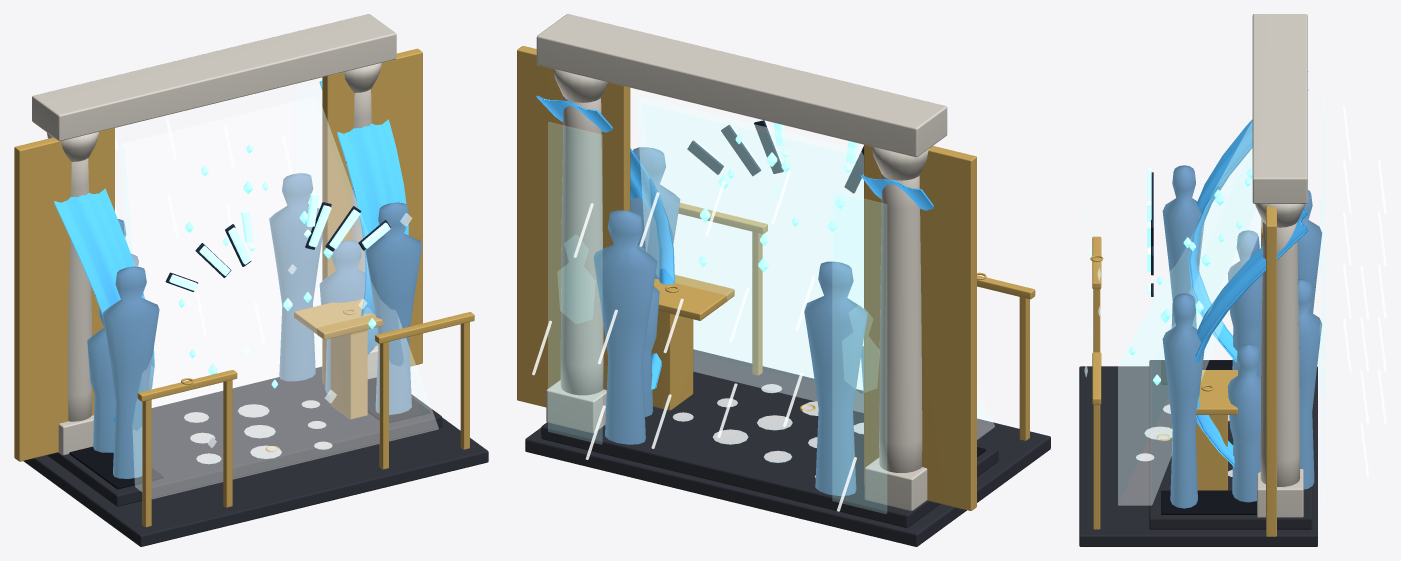
The model's file is webtoon-wind-drape-tempest-cape-100pct-v25.glb.
3 renders of one model, left to right at view 1: azimuth 30°, elevation 25°; view 2: azimuth 150°, elevation 25°; view 3: azimuth 270°, elevation 25°, orthographic. The views are drawn at different scales.
Visible parts, largest first — view 1: Volumetric_V25Beat3_Silk_GodRaySlit, Articulated_V25Beat3_Silk_DoorsAndIkRig, V25Beat3_Silk_DatumDeck, V25Beat3_Silk_PortalColonnade, DatumCrowd_V25Beat3_Silk_Silhouettes, WindDrape_V25Beat3_Silk_CatenaryPair, ZDepthSFX_V25Beat3_Silk_GlyphCore, ShadowDrift_V25Beat3_Silk_UmbraMask, Weather_V25Beat3_Silk_IndoorWetRipples, Weather_V25Beat3_Silk_ExteriorOccluded, ZDepthSFX_V25Beat3_Silk_ShadowPlate, Atmospheric_V25Beat3_Silk_MidMotes; view 2: Articulated_V25Beat3_Silk_DoorsAndIkRig, V25Beat3_Silk_PortalColonnade, Volumetric_V25Beat3_Silk_GodRaySlit, V25Beat3_Silk_DatumDeck, HalfMirror_V25Beat3_Silk_FresnelReflection, DatumCrowd_V25Beat3_Silk_Silhouettes, WindDrape_V25Beat3_Silk_CatenaryPair, Weather_V25Beat3_Silk_ExteriorOccluded, ZDepthSFX_V25Beat3_Silk_ShadowPlate, Weather_V25Beat3_Silk_IndoorWetRipples, Atmospheric_V25Beat3_Silk_MidMotes, ZDepthSFX_V25Beat3_Silk_GlyphCore; view 3: DatumCrowd_V25Beat3_Silk_Silhouettes, V25Beat3_Silk_DatumDeck, V25Beat3_Silk_PortalColonnade, Volumetric_V25Beat3_Silk_GodRaySlit, Articulated_V25Beat3_Silk_DoorsAndIkRig, WindDrape_V25Beat3_Silk_CatenaryPair, Weather_V25Beat3_Silk_ExteriorOccluded, ShadowDrift_V25Beat3_Silk_UmbraMask, HalfMirror_V25Beat3_Silk_FresnelReflection, Atmospheric_V25Beat3_Silk_MidMotes, Weather_V25Beat3_Silk_IndoorWetRipples, ZDepthSFX_V25Beat3_Silk_GlyphCore.
Part boxes in pixels (left/top/right/bottom): Volumetric_V25Beat3_Silk_GodRaySlit: left=121, top=97, right=438, bottom=498; Articulated_V25Beat3_Silk_DoorsAndIkRig: left=14, top=48, right=474, bottom=527; V25Beat3_Silk_DatumDeck: left=23, top=366, right=488, bottom=546; V25Beat3_Silk_PortalColonnade: left=32, top=14, right=396, bottom=455; DatumCrowd_V25Beat3_Silk_Silhouettes: left=87, top=173, right=421, bottom=478; WindDrape_V25Beat3_Silk_CatenaryPair: left=54, top=81, right=408, bottom=422; ZDepthSFX_V25Beat3_Silk_GlyphCore: left=169, top=193, right=390, bottom=290; ShadowDrift_V25Beat3_Silk_UmbraMask: left=69, top=377, right=430, bottom=489; Weather_V25Beat3_Silk_IndoorWetRipples: left=184, top=400, right=332, bottom=464; Weather_V25Beat3_Silk_ExteriorOccluded: left=115, top=115, right=292, bottom=345; ZDepthSFX_V25Beat3_Silk_ShadowPlate: left=165, top=202, right=390, bottom=291; Atmospheric_V25Beat3_Silk_MidMotes: left=178, top=144, right=376, bottom=388; Articulated_V25Beat3_Silk_DoorsAndIkRig: left=517, top=46, right=1035, bottom=510; V25Beat3_Silk_PortalColonnade: left=536, top=14, right=947, bottom=510; Volumetric_V25Beat3_Silk_GodRaySlit: left=636, top=97, right=994, bottom=439; V25Beat3_Silk_DatumDeck: left=525, top=349, right=1050, bottom=546; HalfMirror_V25Beat3_Silk_FresnelReflection: left=548, top=122, right=886, bottom=513; DatumCrowd_V25Beat3_Silk_Silhouettes: left=593, top=147, right=867, bottom=495; WindDrape_V25Beat3_Silk_CatenaryPair: left=536, top=95, right=933, bottom=389; Weather_V25Beat3_Silk_ExteriorOccluded: left=532, top=170, right=856, bottom=511; ZDepthSFX_V25Beat3_Silk_ShadowPlate: left=687, top=120, right=863, bottom=193; Weather_V25Beat3_Silk_IndoorWetRipples: left=672, top=384, right=863, bottom=477; Atmospheric_V25Beat3_Silk_MidMotes: left=698, top=134, right=844, bottom=271; ZDepthSFX_V25Beat3_Silk_GlyphCore: left=695, top=121, right=857, bottom=173; DatumCrowd_V25Beat3_Silk_Silhouettes: left=1162, top=165, right=1322, bottom=508; V25Beat3_Silk_DatumDeck: left=1079, top=360, right=1317, bottom=546; V25Beat3_Silk_PortalColonnade: left=1252, top=14, right=1307, bottom=517; Volumetric_V25Beat3_Silk_GodRaySlit: left=1118, top=121, right=1262, bottom=505; Articulated_V25Beat3_Silk_DoorsAndIkRig: left=1090, top=206, right=1276, bottom=536; WindDrape_V25Beat3_Silk_CatenaryPair: left=1188, top=71, right=1308, bottom=466; Weather_V25Beat3_Silk_ExteriorOccluded: left=1343, top=106, right=1386, bottom=476; ShadowDrift_V25Beat3_Silk_UmbraMask: left=1161, top=360, right=1256, bottom=514; HalfMirror_V25Beat3_Silk_FresnelReflection: left=1318, top=89, right=1324, bottom=508; Atmospheric_V25Beat3_Silk_MidMotes: left=1129, top=168, right=1252, bottom=385; Weather_V25Beat3_Silk_IndoorWetRipples: left=1136, top=404, right=1232, bottom=476; ZDepthSFX_V25Beat3_Silk_GlyphCore: left=1147, top=167, right=1151, bottom=294.
Size of the model in its own units: 3.2 by 2.78 by 2.11.
